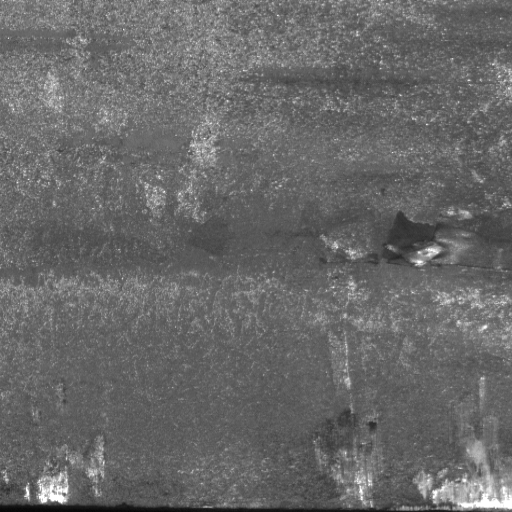qiaopi: (381, 209, 512, 280)
